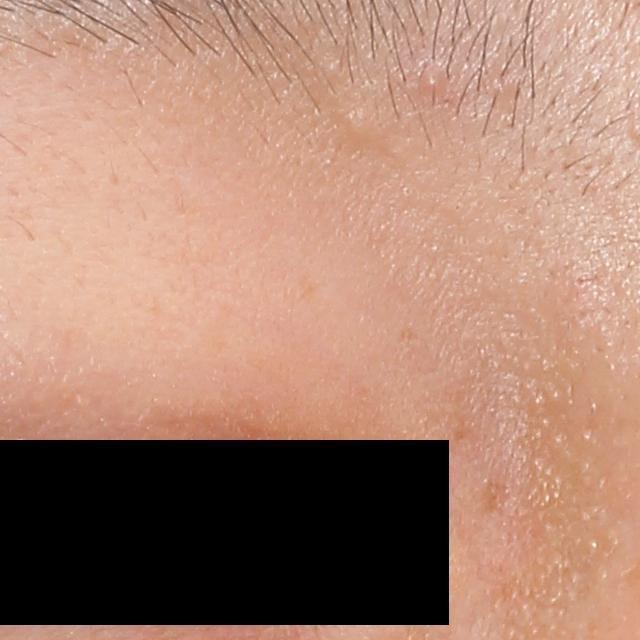comedo: (335, 109, 381, 152), (419, 66, 448, 94)
melasma: (484, 481, 514, 519)
